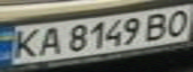1: (84, 19, 109, 49)
4: (103, 16, 127, 47)
8: (63, 20, 90, 53)
9: (118, 15, 148, 46)
A: (33, 25, 66, 56)
B: (139, 10, 175, 42)
K: (6, 26, 45, 61)
O: (160, 7, 193, 38)
